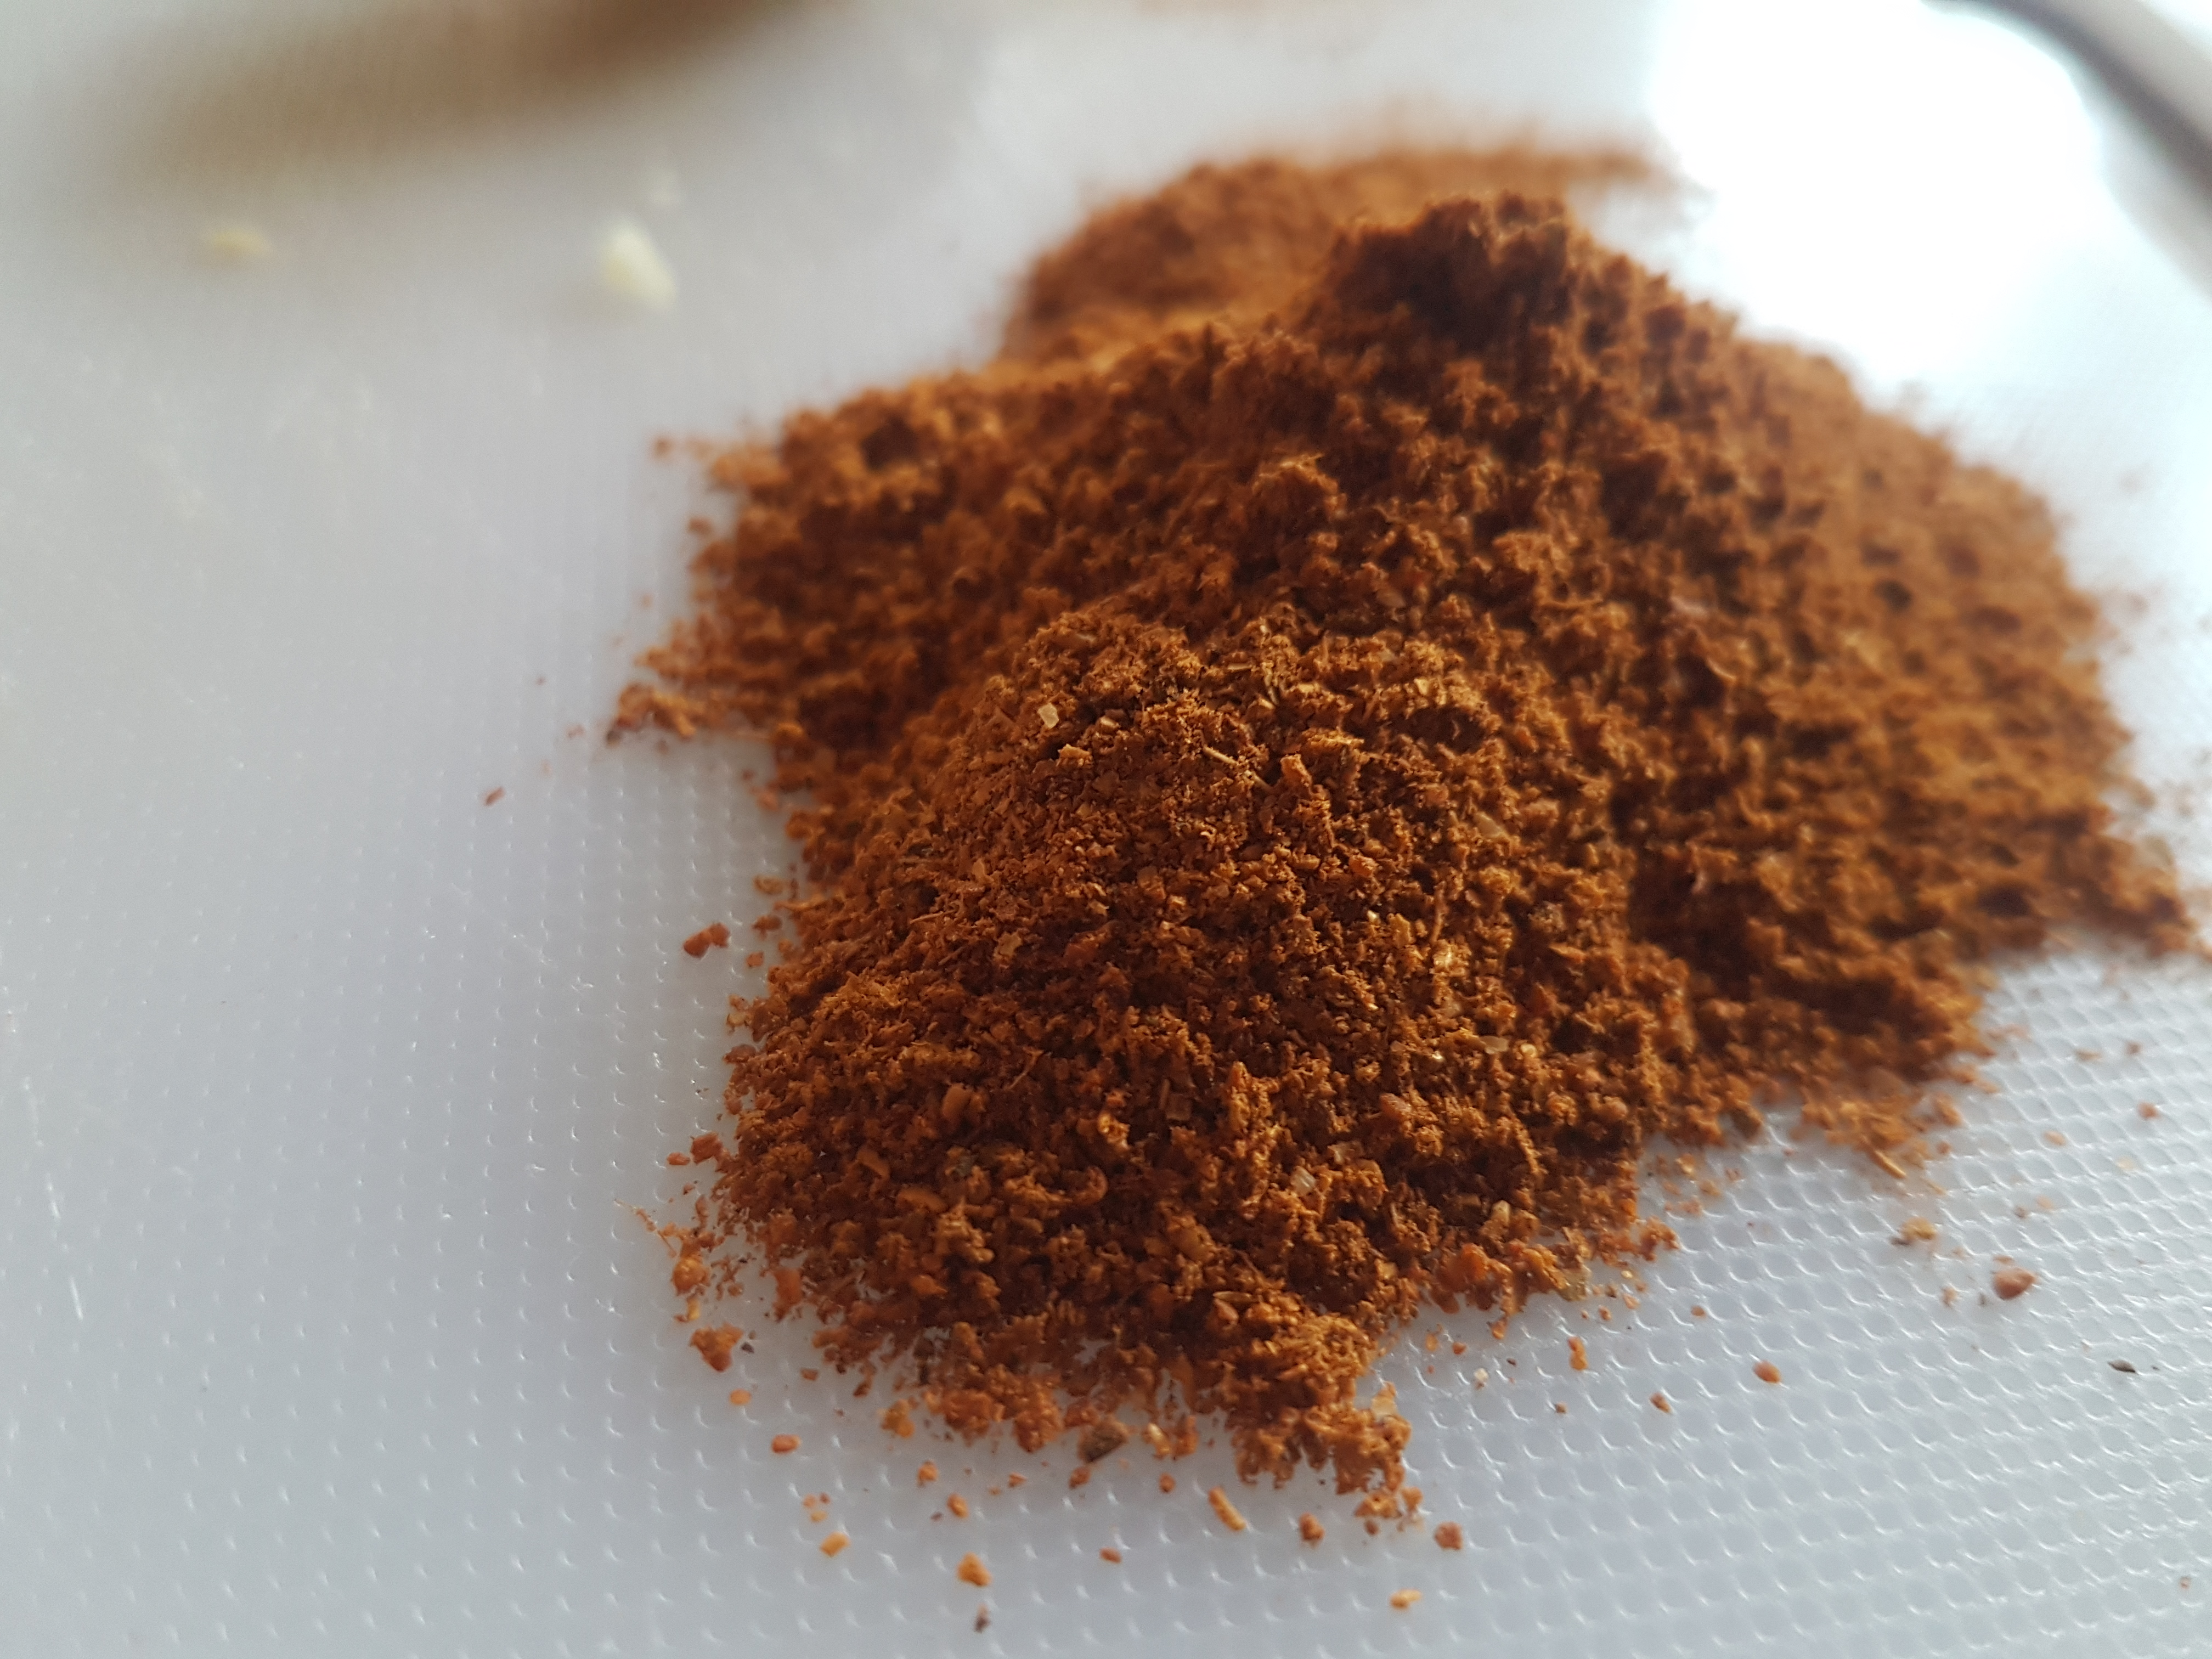Garam masala: (648, 113, 2212, 1636)
